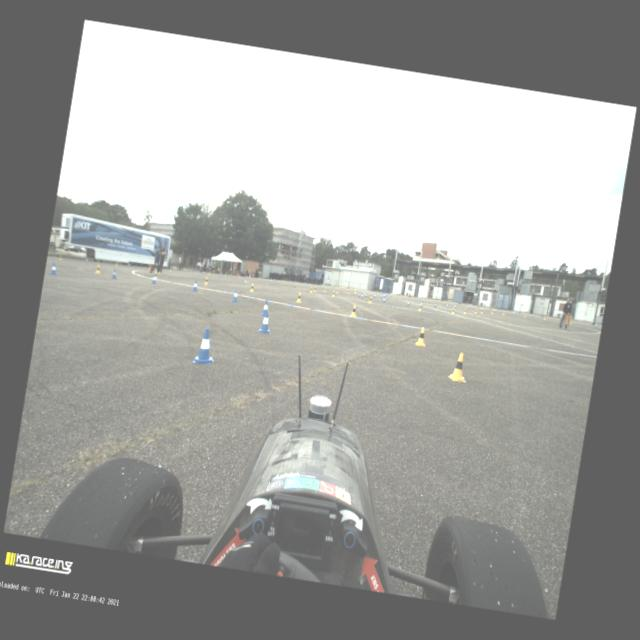blue_cone: (192, 328, 219, 367), (258, 310, 274, 334), (260, 300, 268, 316), (49, 264, 59, 276), (231, 290, 239, 302), (192, 280, 200, 292), (112, 269, 118, 280), (152, 274, 158, 284), (382, 296, 386, 303), (434, 302, 438, 308), (364, 292, 368, 298), (512, 311, 516, 316), (406, 300, 409, 306), (358, 292, 361, 298), (361, 293, 364, 299), (373, 293, 376, 298), (85, 258, 88, 263), (446, 304, 449, 308), (128, 262, 130, 268), (531, 314, 534, 318), (454, 304, 456, 309), (494, 308, 496, 313), (421, 302, 423, 307), (595, 323, 597, 328), (466, 306, 468, 310), (220, 272, 222, 276), (376, 290, 378, 294), (381, 294, 383, 298), (384, 294, 386, 298), (384, 293, 386, 297), (184, 270, 187, 272), (202, 271, 204, 274), (246, 275, 248, 278), (369, 290, 371, 293), (390, 294, 392, 297), (274, 278, 275, 282), (260, 276, 261, 280), (387, 292, 388, 296), (381, 292, 383, 294), (290, 280, 291, 283), (304, 282, 305, 284), (284, 280, 284, 282), (320, 284, 320, 286)
large_orange_cone: (249, 274, 251, 279), (236, 272, 238, 276)
yellow_cone: (448, 352, 470, 382), (415, 327, 428, 347), (350, 304, 358, 317), (296, 292, 303, 303), (95, 264, 102, 274), (249, 283, 255, 293), (204, 276, 209, 286), (308, 286, 314, 294), (368, 296, 373, 304), (418, 304, 422, 312), (332, 290, 336, 298), (155, 272, 159, 280), (58, 254, 62, 260), (502, 310, 506, 316), (463, 308, 467, 314), (451, 308, 455, 314), (474, 309, 478, 314), (324, 287, 327, 293), (314, 286, 317, 292), (336, 288, 339, 294), (169, 267, 172, 272), (543, 316, 546, 320), (524, 312, 526, 318), (481, 310, 484, 314), (346, 290, 349, 294), (115, 262, 118, 266), (224, 273, 227, 277), (492, 310, 494, 314), (148, 266, 150, 270), (208, 272, 210, 276), (239, 274, 241, 278), (270, 278, 272, 282), (309, 282, 311, 286), (355, 290, 357, 294), (364, 290, 366, 294), (570, 320, 572, 324), (258, 277, 260, 280), (296, 281, 298, 284), (322, 284, 323, 286)
